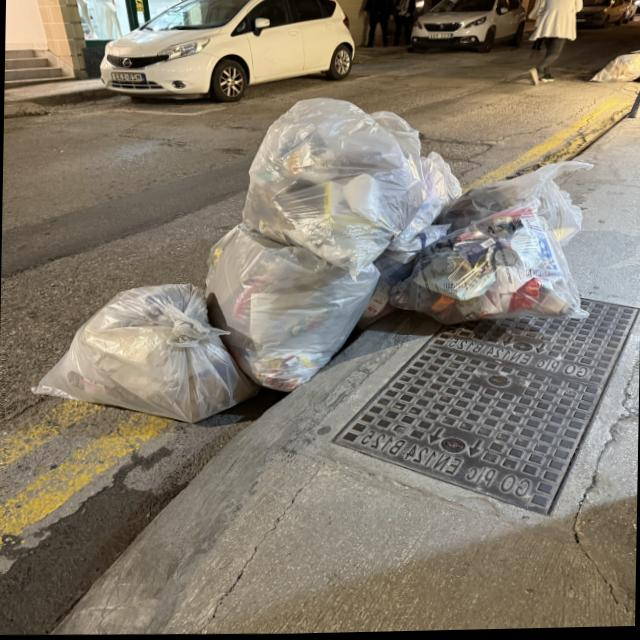Recyclable Material -Grey Bags-: (33, 98, 591, 424), (589, 56, 640, 84)
